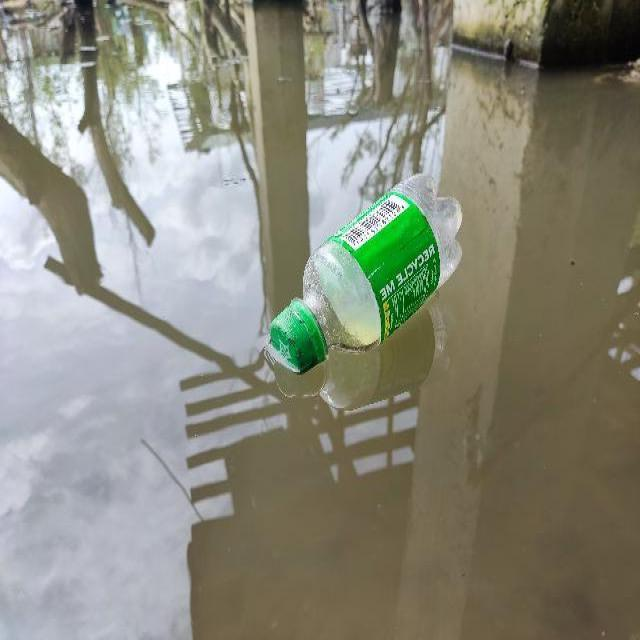Bottle: (258, 164, 472, 382)
